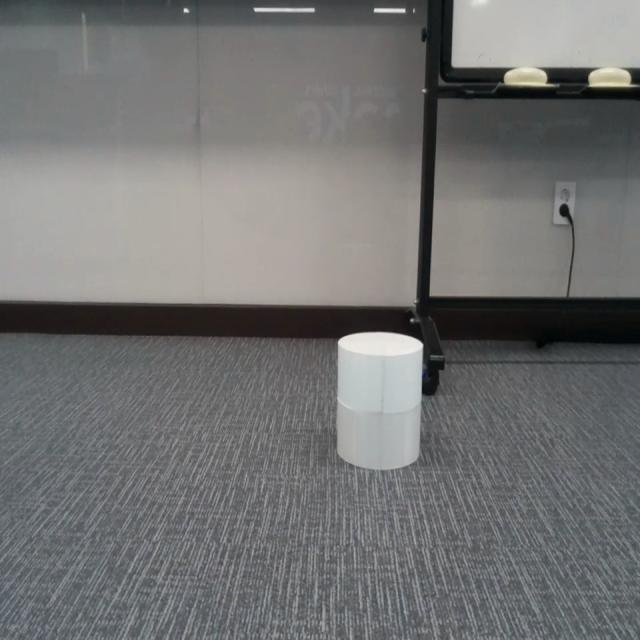cylinder: (336, 330, 423, 471)
